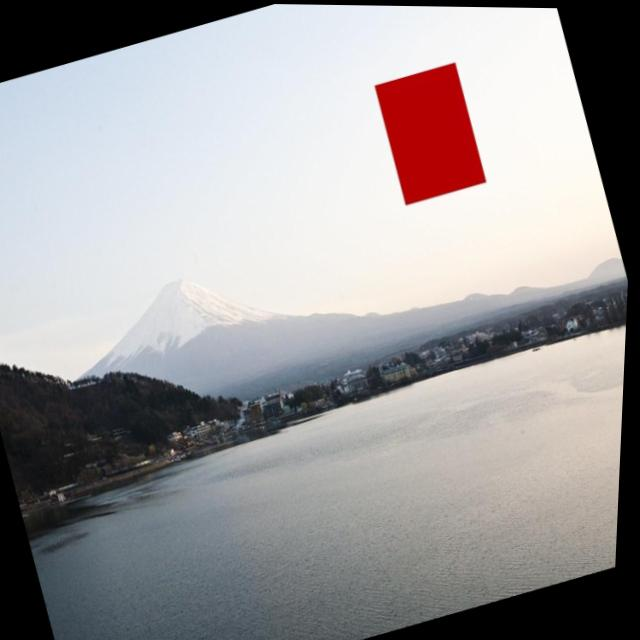RedSquare: (359, 47, 501, 214)
